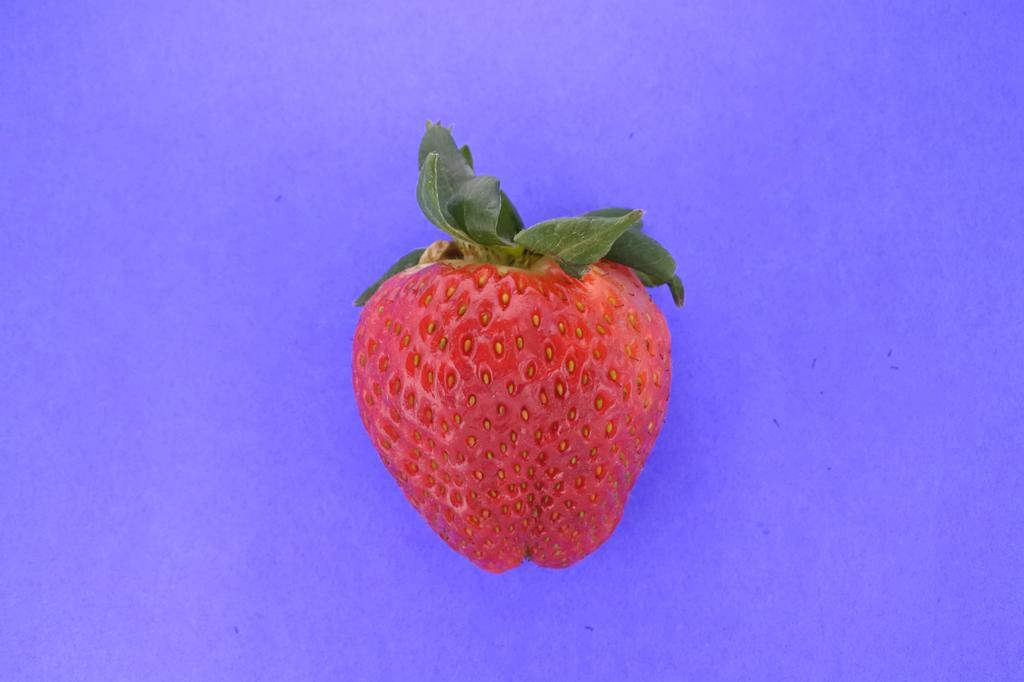red strawberry: (346, 121, 685, 574)
